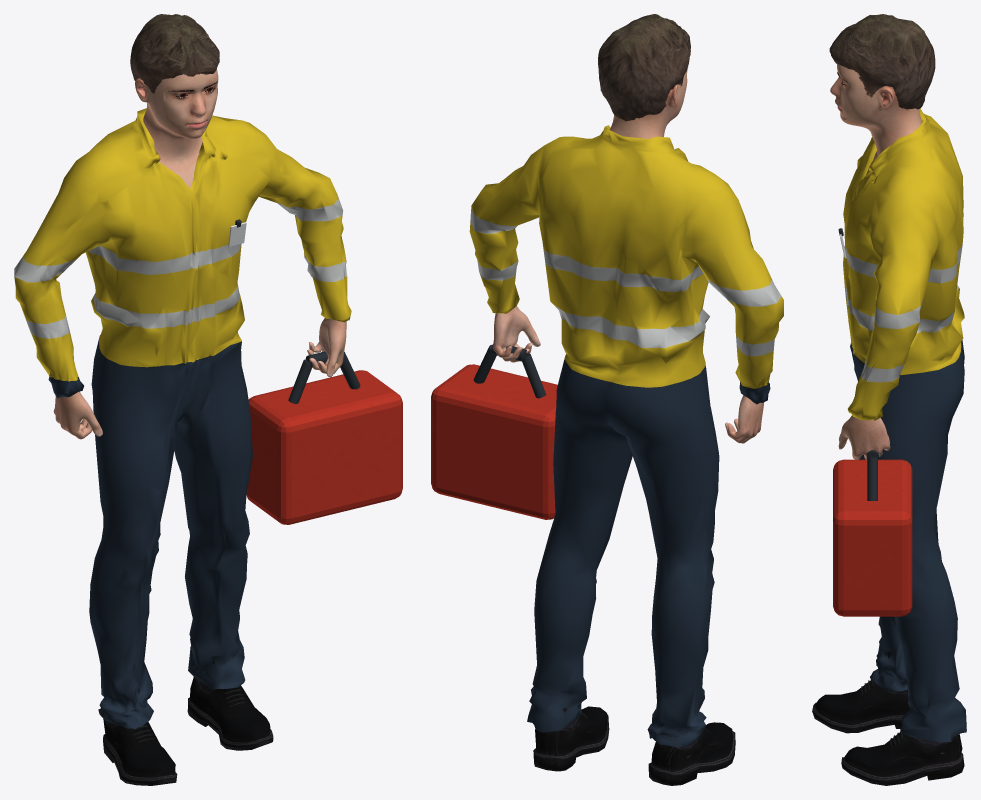
Rendered from paramedic.glb.
3 views of the same model, side by side, from view 1: azimuth 30°, elevation 25°; view 2: azimuth 150°, elevation 25°; view 3: azimuth 270°, elevation 25° (orthographic). The views are drawn at different scales.
Visible parts, largest first — view 1: male_casualsuit01, Paramedic | original response bag, Drew | anatomical body, shoes03, short02; view 2: male_casualsuit01, Paramedic | original response bag, short02, shoes03, Drew | anatomical body; view 3: male_casualsuit01, Paramedic | original response bag, shoes03, short02, Drew | anatomical body, Paramedic | bag handle strap.001.
Part boxes in pixels (x1,y1,x2,y2): male_casualsuit01: (14, 108, 351, 728); Paramedic | original response bag: (246, 370, 402, 524); Drew | anatomical body: (53, 69, 346, 439); shoes03: (103, 659, 273, 785); short02: (130, 14, 219, 93); male_casualsuit01: (469, 125, 783, 748); Paramedic | original response bag: (431, 364, 557, 519); short02: (598, 14, 690, 121); shoes03: (533, 705, 735, 785); Drew | anatomical body: (493, 69, 763, 443); male_casualsuit01: (843, 108, 966, 742); Paramedic | original response bag: (833, 459, 912, 616); shoes03: (812, 648, 964, 785); short02: (829, 14, 935, 109); Drew | anatomical body: (830, 64, 921, 459); Paramedic | bag handle strap.001: (867, 457, 877, 500).
Size of the model in its own units: 0.8996 by 1.81 by 0.35.
Materials: 14 (14 with a texture image).
